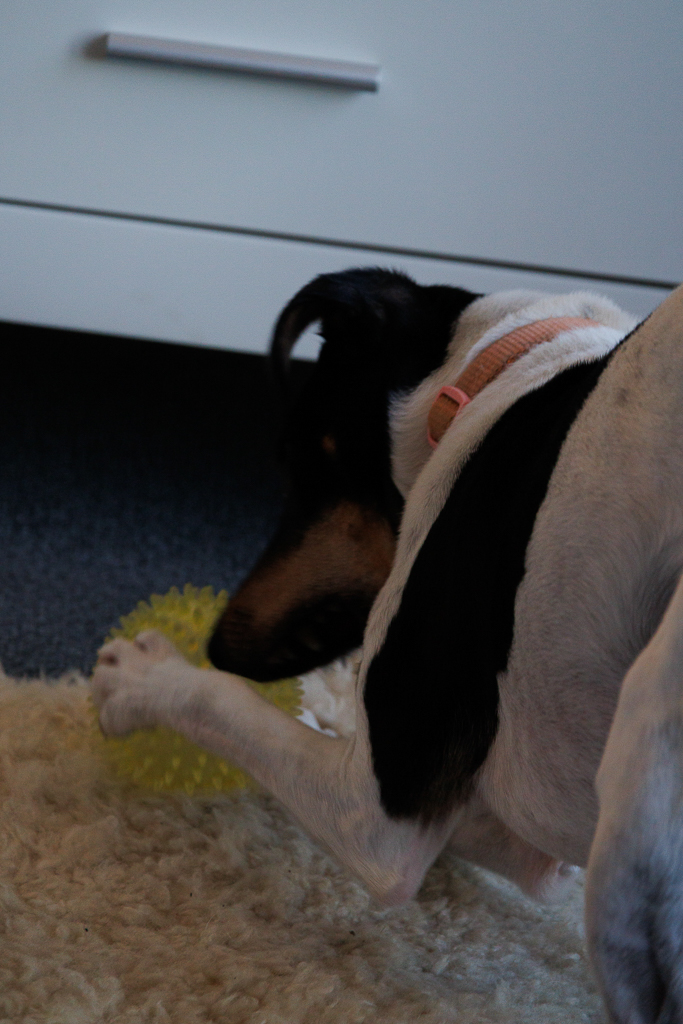Dog: (74, 259, 683, 1024)
